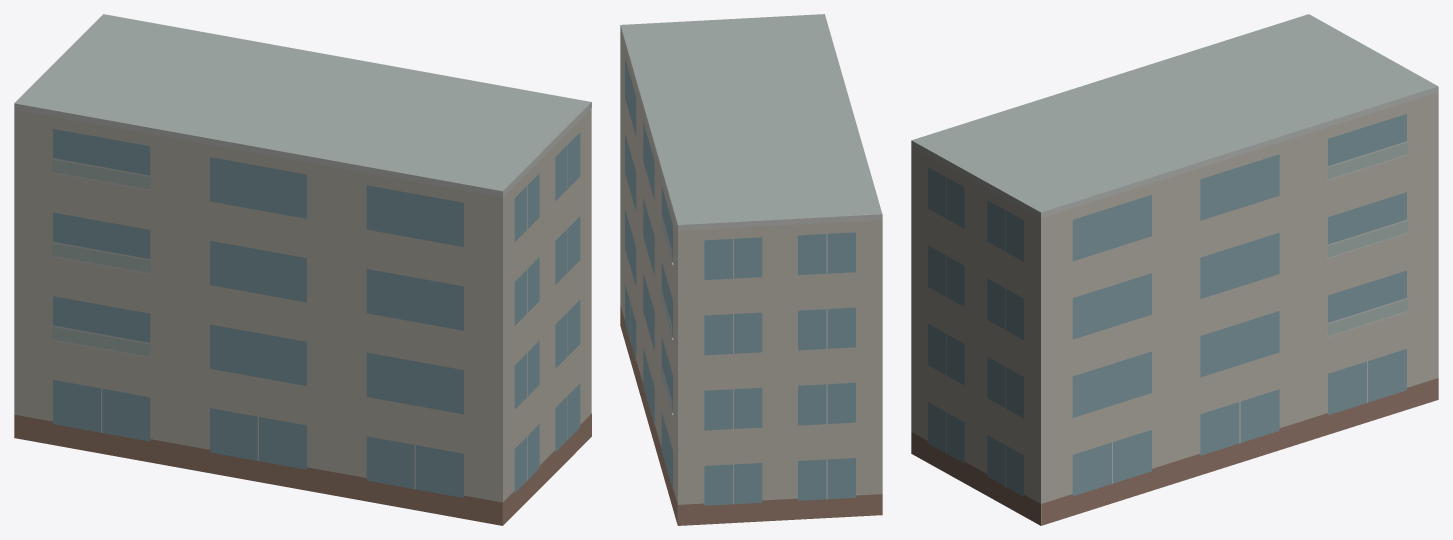
File: survey-upis-32805772.glb
The picture shows the model from 3 angles, left to right: view 1: azimuth 30°, elevation 25°; view 2: azimuth 150°, elevation 25°; view 3: azimuth 270°, elevation 25°; orthographic projection. The views are drawn at different scales.
Visible parts, largest first — view 1: survey-upis-32805772.tmp; view 2: survey-upis-32805772.tmp; view 3: survey-upis-32805772.tmp.
Boxes of the visible parts, left/top/right/bottom form: survey-upis-32805772.tmp: left=14, top=14, right=591, bottom=525; survey-upis-32805772.tmp: left=620, top=14, right=882, bottom=525; survey-upis-32805772.tmp: left=911, top=14, right=1438, bottom=525.
Bounding box in the file's own units: 17.95 × 13.2 × 20.14.
